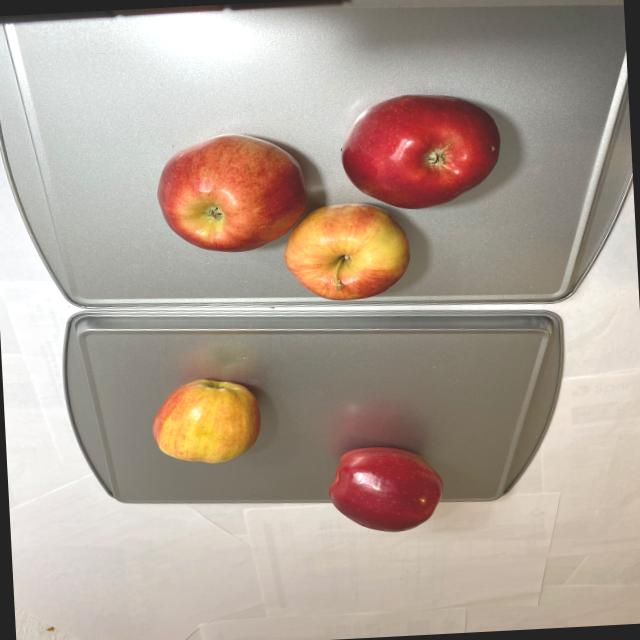apple: (153, 90, 512, 308), (323, 442, 446, 536), (148, 375, 265, 467)
